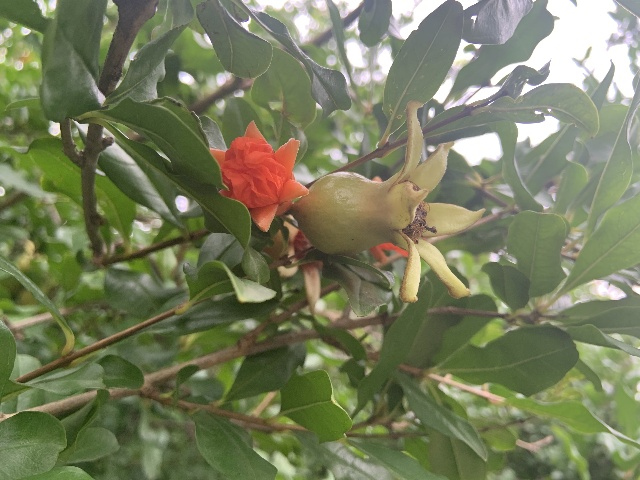early-fruit: (294, 100, 485, 302)
flower: (209, 120, 309, 233)
